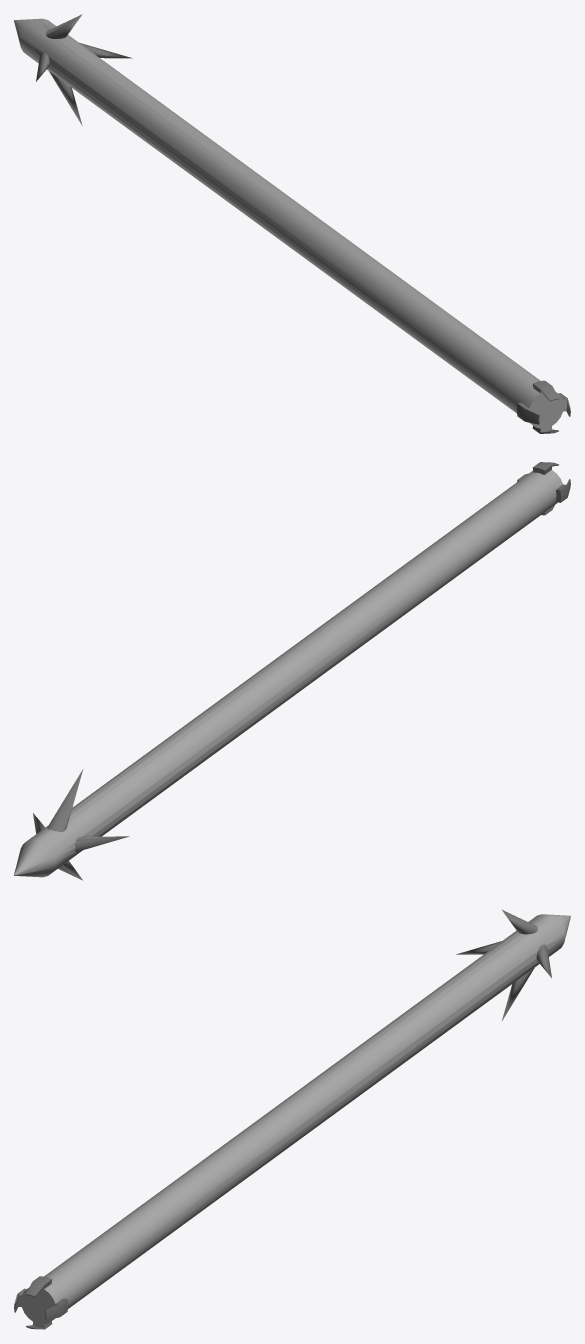
The model's file is Harpoon_Bullet.fbx.
The picture shows the model from 3 angles, top to bottom: view 1: azimuth 30°, elevation 25°; view 2: azimuth 150°, elevation 25°; view 3: azimuth 330°, elevation 25°; orthographic projection.
Parts seen in each view (by area): view 1: pCone6; view 2: pCone6; view 3: pCone6.
Boxes of the visible parts, x1,y1,x2,y2 form: pCone6: (14, 14, 570, 433); pCone6: (14, 462, 570, 880); pCone6: (14, 909, 570, 1329).
Size of the model in its own units: 0.9222 by 1.02 by 8.84.
